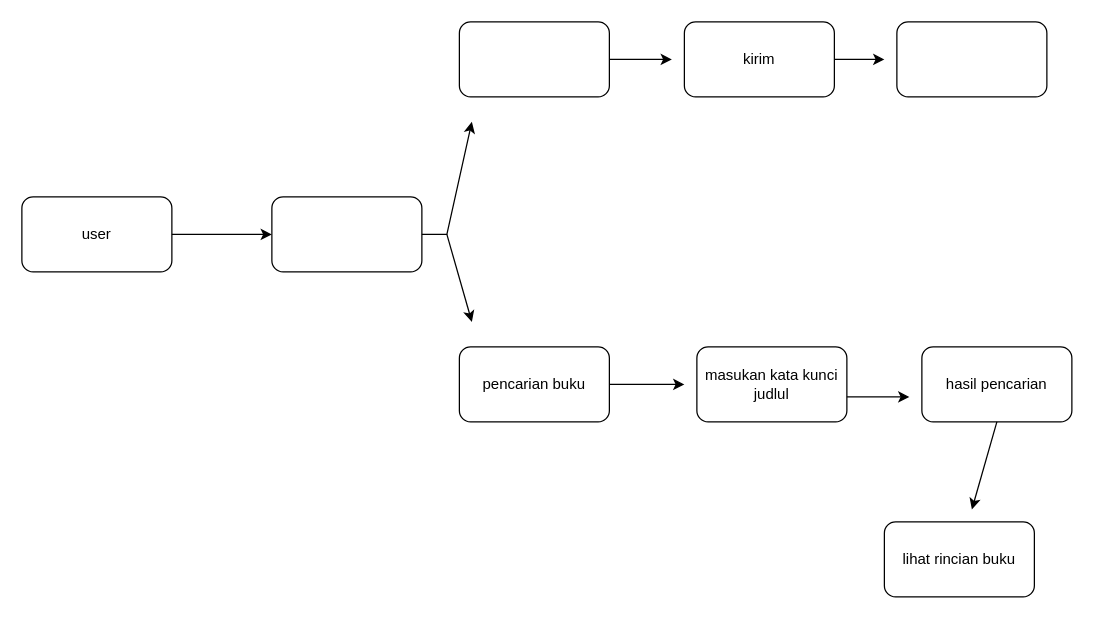
Some shapes in this 1094 by 619 pixel diagram are drawn without their labels. The shapes that lost their labels are listed below. From the top down, each one's centre as x and y in pixels, then its label:
At point 533,59: "isi form pengunjung".
At point 971,59: "daftar kunjungan".
At point 346,234: "mengunjungi perpus".
